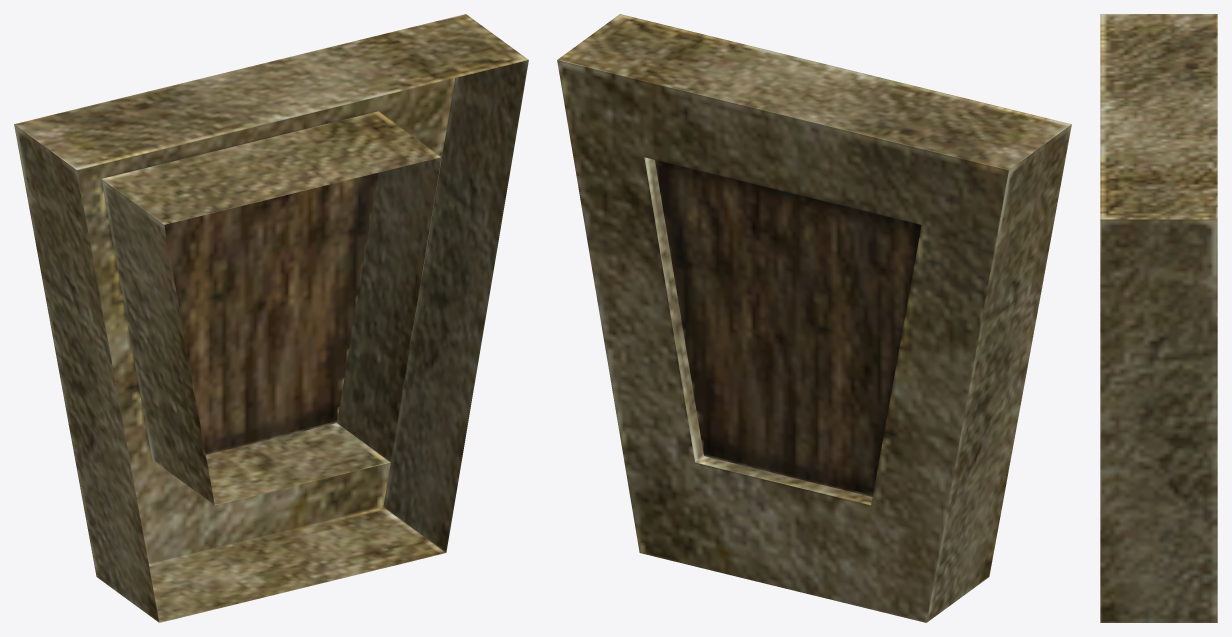
Rendered from hrt_window5.glb.
3 views of the same model, side by side, from view 1: azimuth 30°, elevation 25°; view 2: azimuth 150°, elevation 25°; view 3: azimuth 270°, elevation 25° (orthographic). The views are drawn at different scales.
Visible parts, largest first — view 1: hrt_window5; view 2: hrt_window5; view 3: hrt_window5.
Part boxes in pixels (x1,y1,x2,y2): hrt_window5: (14,14,528,622); hrt_window5: (557,14,1071,622); hrt_window5: (1100,14,1217,622).
Bounding box in the file's own units: 1.18 × 1.18 × 0.285.
1 material, 1 textured.
